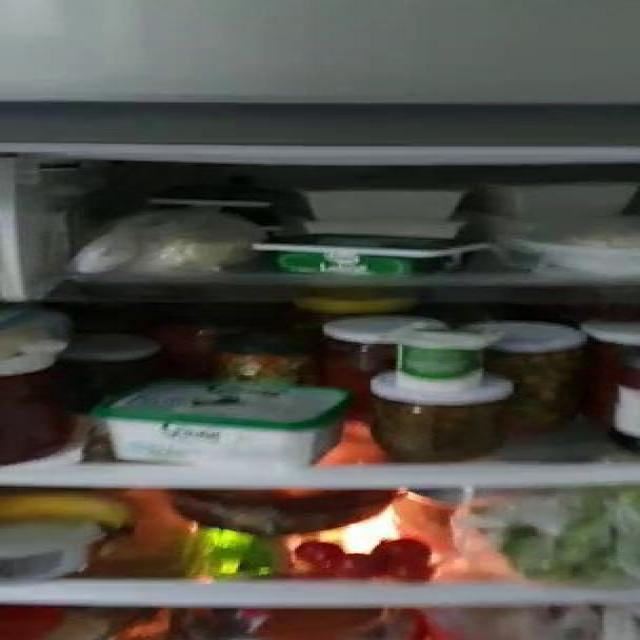banana: (4, 492, 139, 533)
cheese: (103, 382, 341, 459)
cream cheese: (255, 234, 466, 272)
lettuce: (494, 520, 640, 584)
tomato: (299, 543, 430, 581)
tomato paste: (2, 353, 79, 460)
yoghurt: (390, 330, 490, 384)
